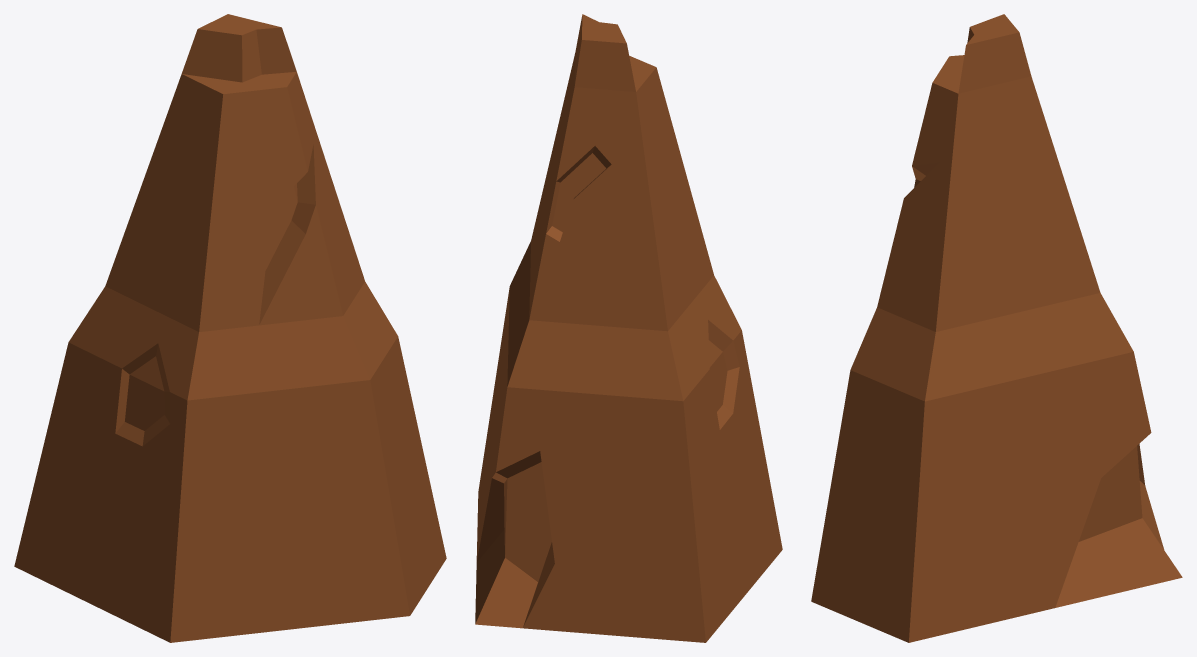
Rendered from Stone4.fbx.
3 renders of one model, left to right at view 1: azimuth 30°, elevation 25°; view 2: azimuth 150°, elevation 25°; view 3: azimuth 270°, elevation 25°, orthographic. The views are drawn at different scales.
Visible parts, largest first — view 1: Circle.009; view 2: Circle.009; view 3: Circle.009.
Boxes of the visible parts, x1,y1,x2,y2 form: Circle.009: [14, 14, 446, 642]; Circle.009: [475, 14, 782, 642]; Circle.009: [811, 14, 1182, 642].
Size of the model in its own units: 184 by 287 by 182.
